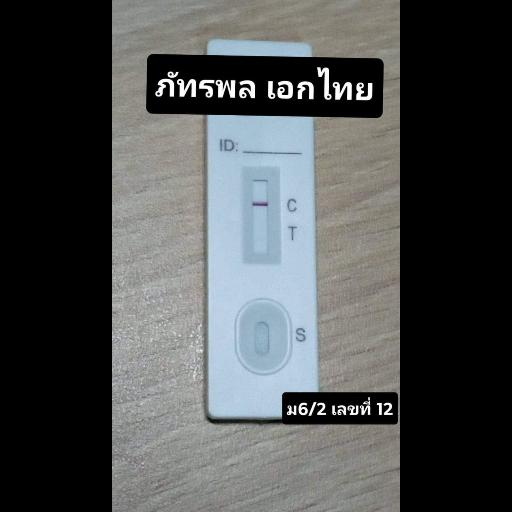Neg: (208, 114, 316, 390)
